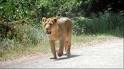lion: (39, 13, 79, 64)
